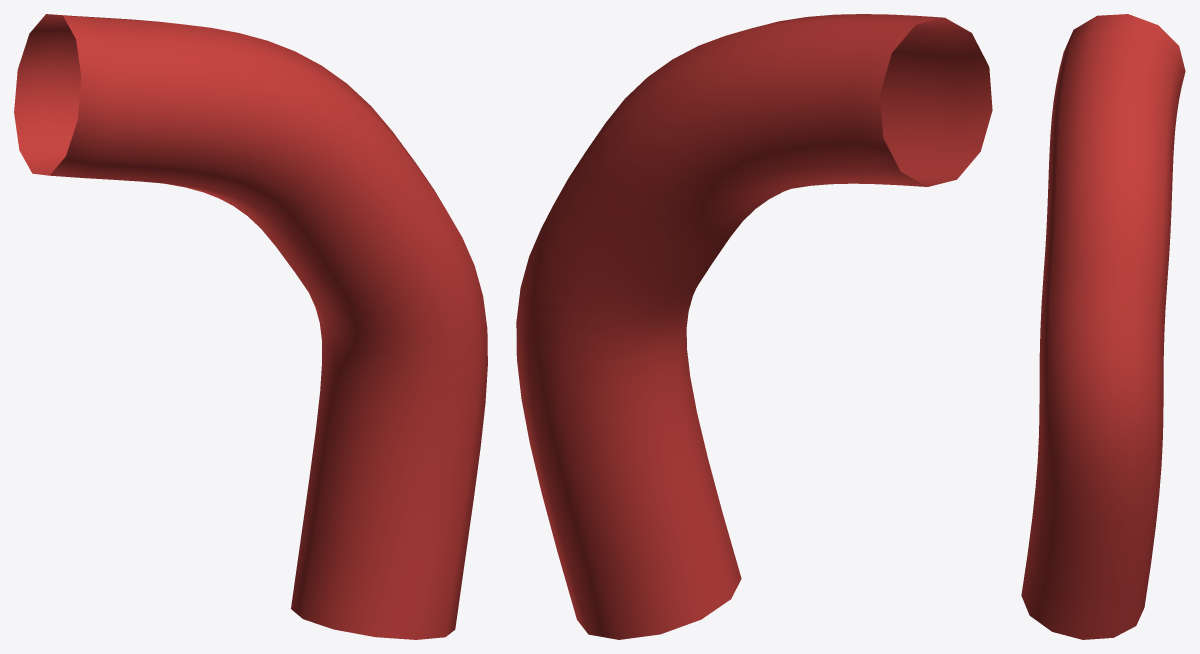
3 renders of one model, left to right at view 1: azimuth 30°, elevation 25°; view 2: azimuth 150°, elevation 25°; view 3: azimuth 270°, elevation 25°, orthographic. The views are drawn at different scales.
Parts seen in each view (by area): view 1: 右侧最上肋间动脉; view 2: 右侧最上肋间动脉; view 3: 右侧最上肋间动脉.
Part boxes in pixels (x1,y1,x2,y2): 右侧最上肋间动脉: (14,14,487,639); 右侧最上肋间动脉: (516,14,992,639); 右侧最上肋间动脉: (1021,14,1185,639).
Size of the model in its own units: 0.0089 by 0.0131 by 0.0039.
